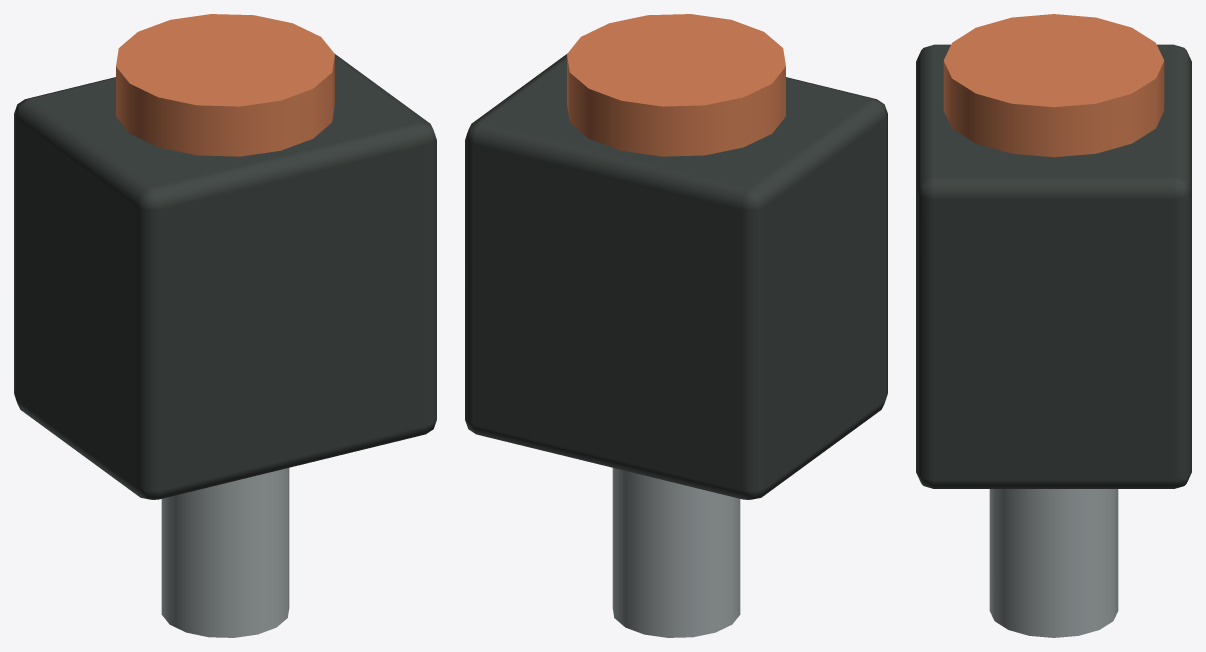
Rendered from off-grid-power-and-controls-pressure-switch-39b018b4__3028.glb.
3 views of the same model, side by side, from view 1: azimuth 30°, elevation 25°; view 2: azimuth 150°, elevation 25°; view 3: azimuth 270°, elevation 25° (orthographic).
Parts seen in each view (by area): view 1: pressure-switch; view 2: pressure-switch; view 3: pressure-switch.
Part boxes in pixels (left/top/right/bottom): pressure-switch: left=14, top=14, right=436, bottom=637; pressure-switch: left=465, top=14, right=887, bottom=637; pressure-switch: left=916, top=14, right=1191, bottom=637.
Size of the model in its own units: 0.075 by 0.132 by 0.06.
